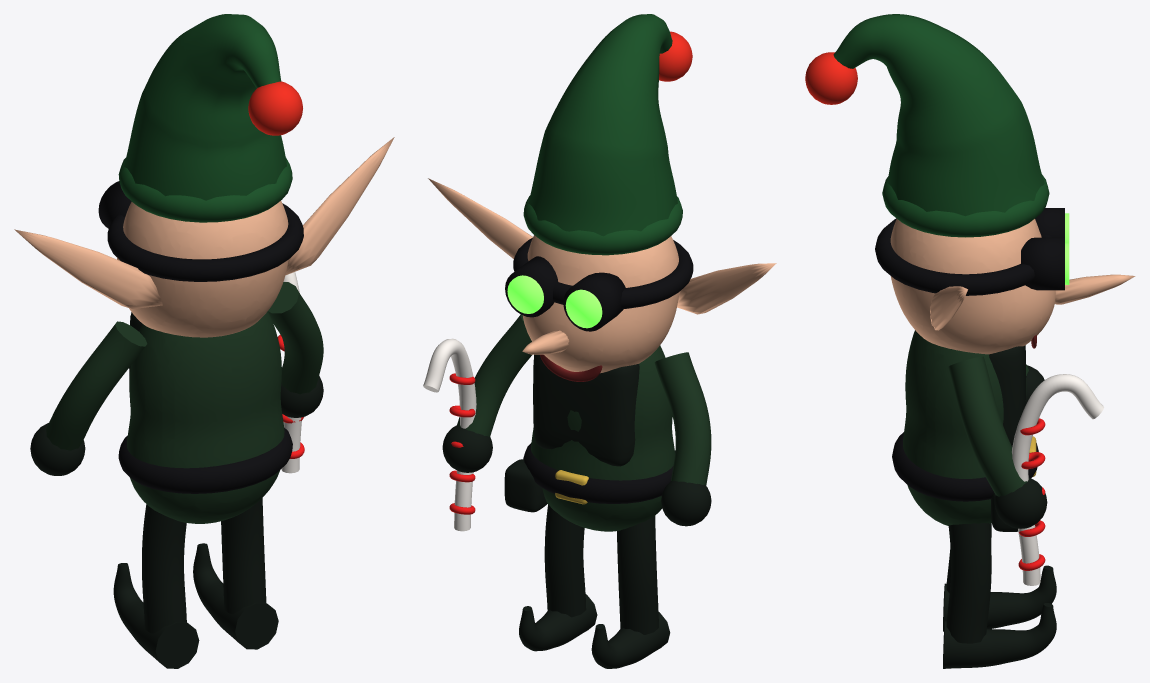
Rendered from elf.glb.
3 views of the same model, side by side, from view 1: azimuth 30°, elevation 25°; view 2: azimuth 150°, elevation 25°; view 3: azimuth 270°, elevation 25° (orthographic). The views are drawn at different scales.
Visible parts, largest first — view 1: ElfTorso, ElfHatCone, ElfHead, ElfArmArmL, GoggleStrap, ElfLegLegL, ElfBelt, ElfEar-1, ElfHatBrim, ElfLegLegR, ElfArmArmR, ElfEar1 (+7 smaller); view 2: ElfHatCone, ElfHead, ElfTorso, ElfVest, ElfArmArmL, ElfLegLegL, ElfLegLegR, ElfHatBrim, ElfArmArmR, ElfBelt, CandyCane, ElfEar-1 (+14 smaller); view 3: ElfHatCone, ElfHead, ElfTorso, ElfArmArmR, ElfLegLegR, ElfHatBrim, GoggleStrap, ElfShoeLegR, CandyCane, ElfBelt, ElfShoeLegL, ElfVest (+6 smaller).
Boxes of the visible parts, x1,y1,x2,y2 form: ElfTorso: (127,311,284,523); ElfHatCone: (124,14,286,200); ElfHead: (117,201,288,337); ElfArmArmL: (46,321,147,450); GoggleStrap: (107,203,303,281); ElfLegLegL: (142,504,186,633); ElfBelt: (118,428,292,493); ElfEar-1: (14,229,162,308); ElfHatBrim: (118,157,292,222); ElfLegLegR: (221,498,266,614); ElfArmArmR: (268,282,323,394); ElfEar1: (285,137,394,275); ElfHatCone: (528,14,677,236); ElfHead: (522,235,679,373); ElfTorso: (531,345,675,531); ElfVest: (533,354,639,466); ElfArmArmL: (654,352,711,485); ElfLegLegL: (617,516,658,634); ElfLegLegR: (544,504,586,617); ElfHatBrim: (523,195,682,255); ElfArmArmR: (457,314,532,436); ElfBelt: (523,443,675,503); CandyCane: (423,338,476,531); ElfEar-1: (677,263,776,314); ElfHatCone: (833,14,1044,216); ElfHead: (890,219,1055,354); ElfTorso: (903,330,1026,525); ElfArmArmR: (948,356,1028,496); ElfLegLegR: (946,523,991,643); ElfHatBrim: (882,174,1049,237); GoggleStrap: (875,218,1051,295); ElfShoeLegR: (943,603,1056,668); CandyCane: (1012,374,1103,585); ElfBelt: (892,432,1038,501); ElfShoeLegL: (943,565,1056,631); ElfVest: (989,345,1026,446).
Size of the model in its own units: 0.3836 by 0.6333 by 0.3004.
